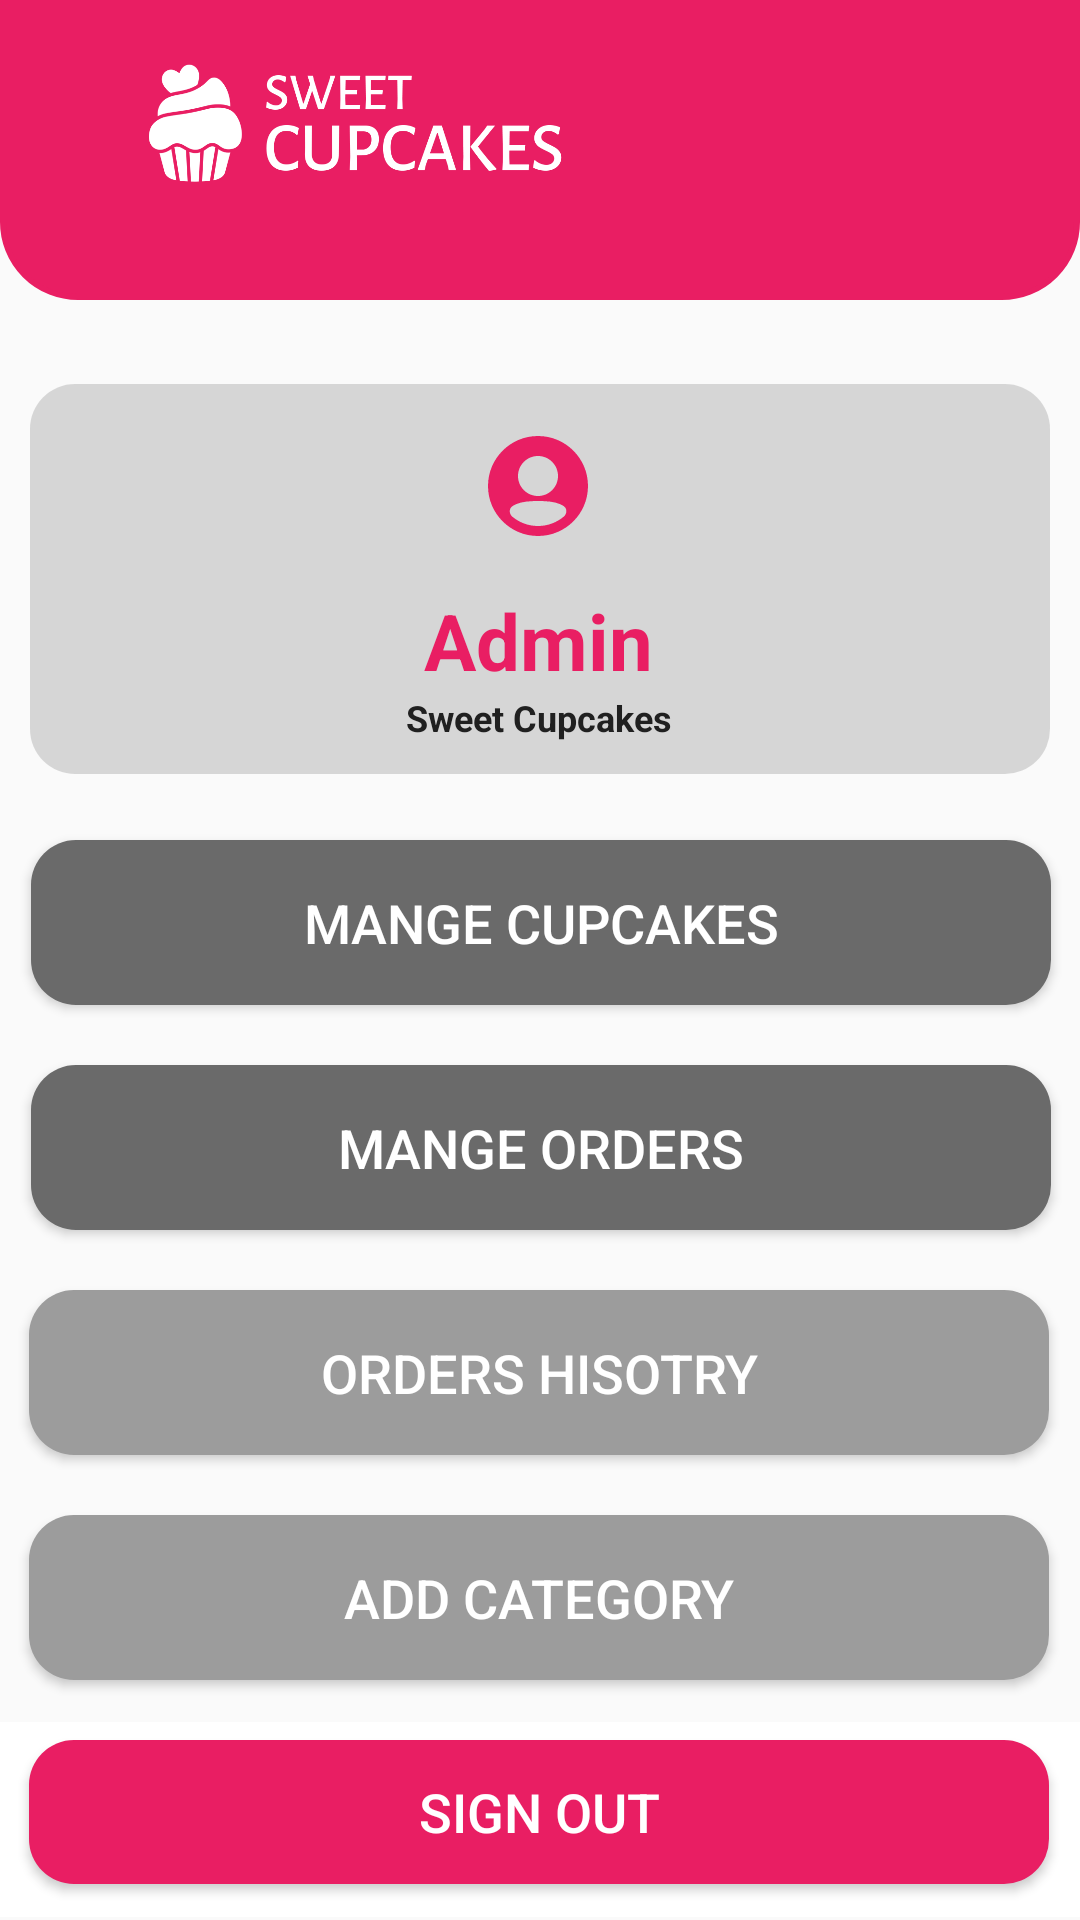

Icon bounding boxes for this 1080x1920 phone screenshot, format (x1, y1, x2, y2):
User: (488, 436, 588, 536)
